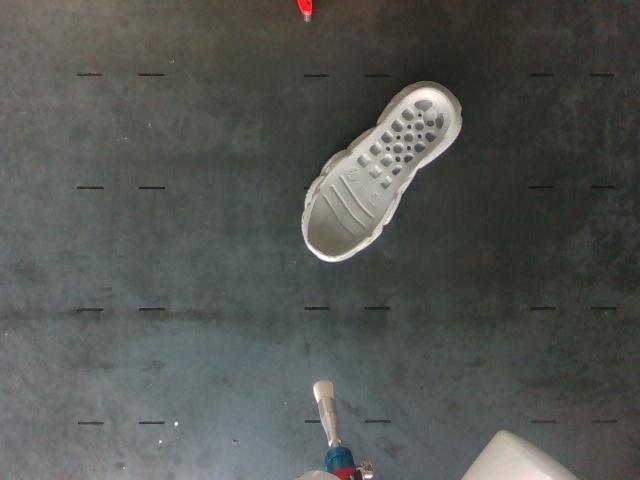shoes: (308, 90, 452, 257)
